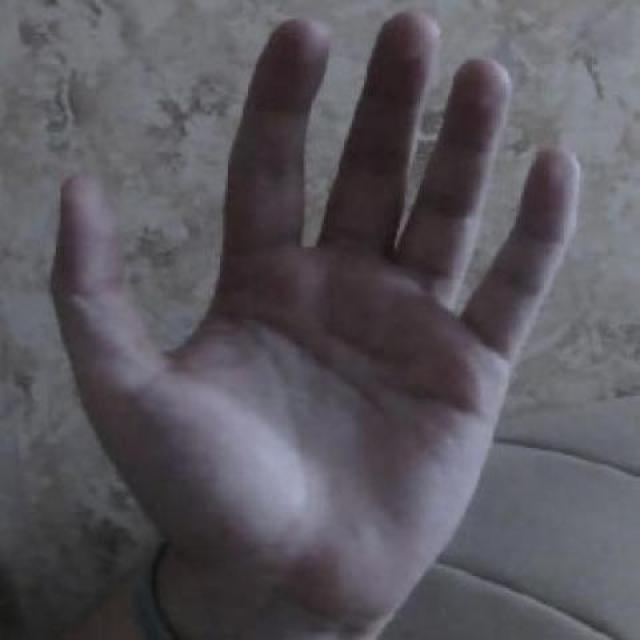Open Hand: (48, 9, 588, 640)
